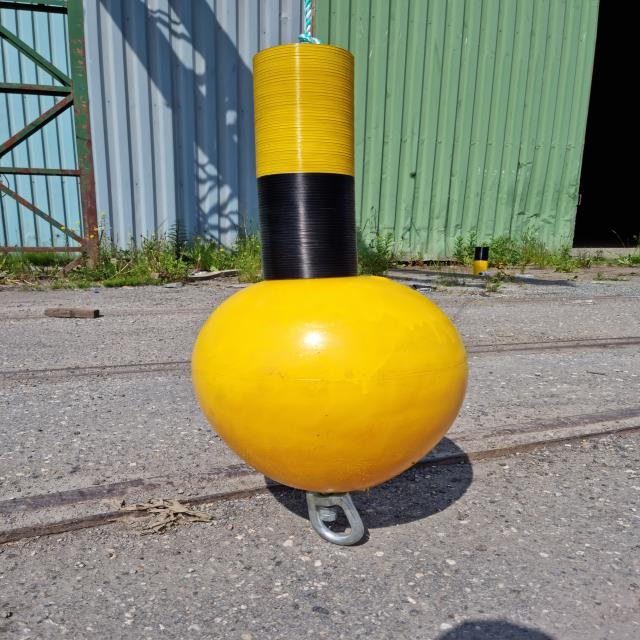west: (189, 44, 473, 493)
